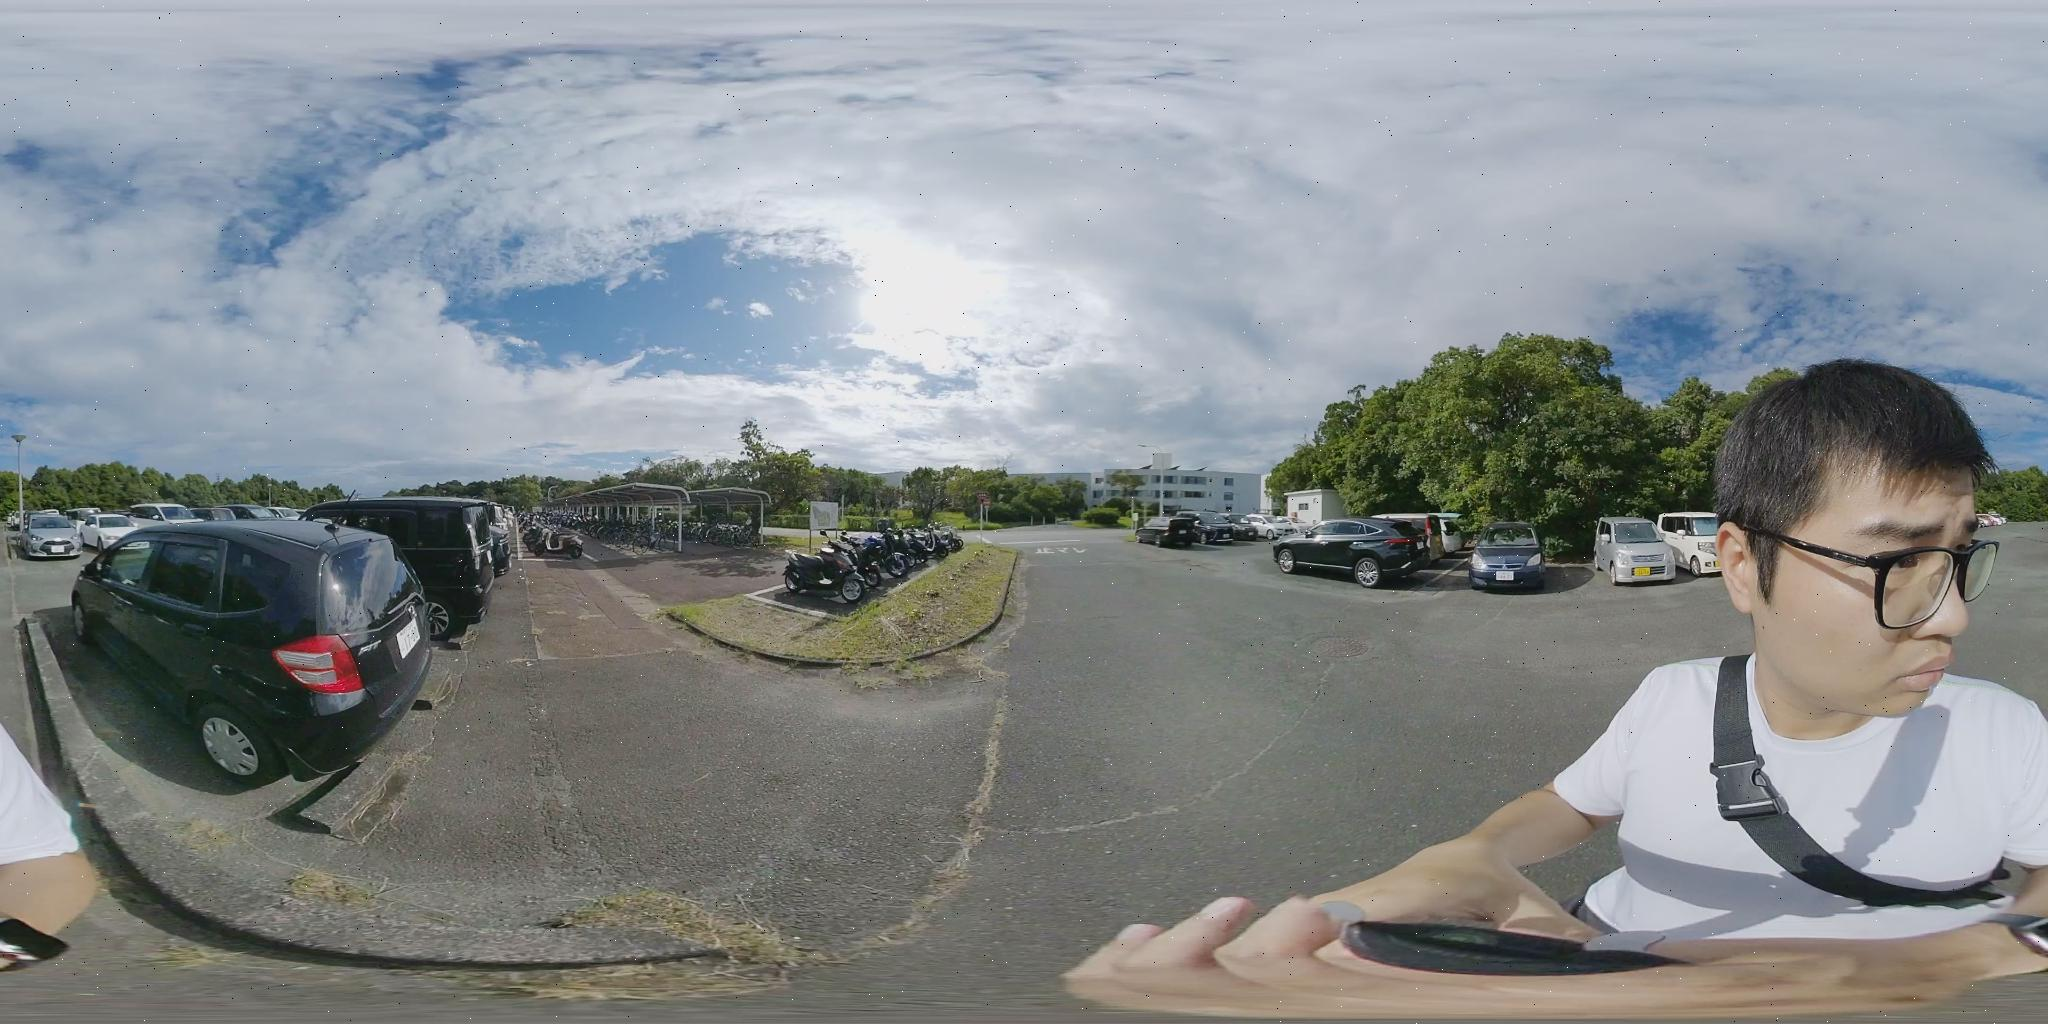car: (73, 520, 422, 775), (1275, 517, 1429, 593), (1603, 516, 1725, 580), (1471, 520, 1543, 594), (20, 509, 138, 554), (24, 515, 85, 558), (76, 516, 142, 550), (1132, 516, 1196, 546), (127, 503, 202, 521)
